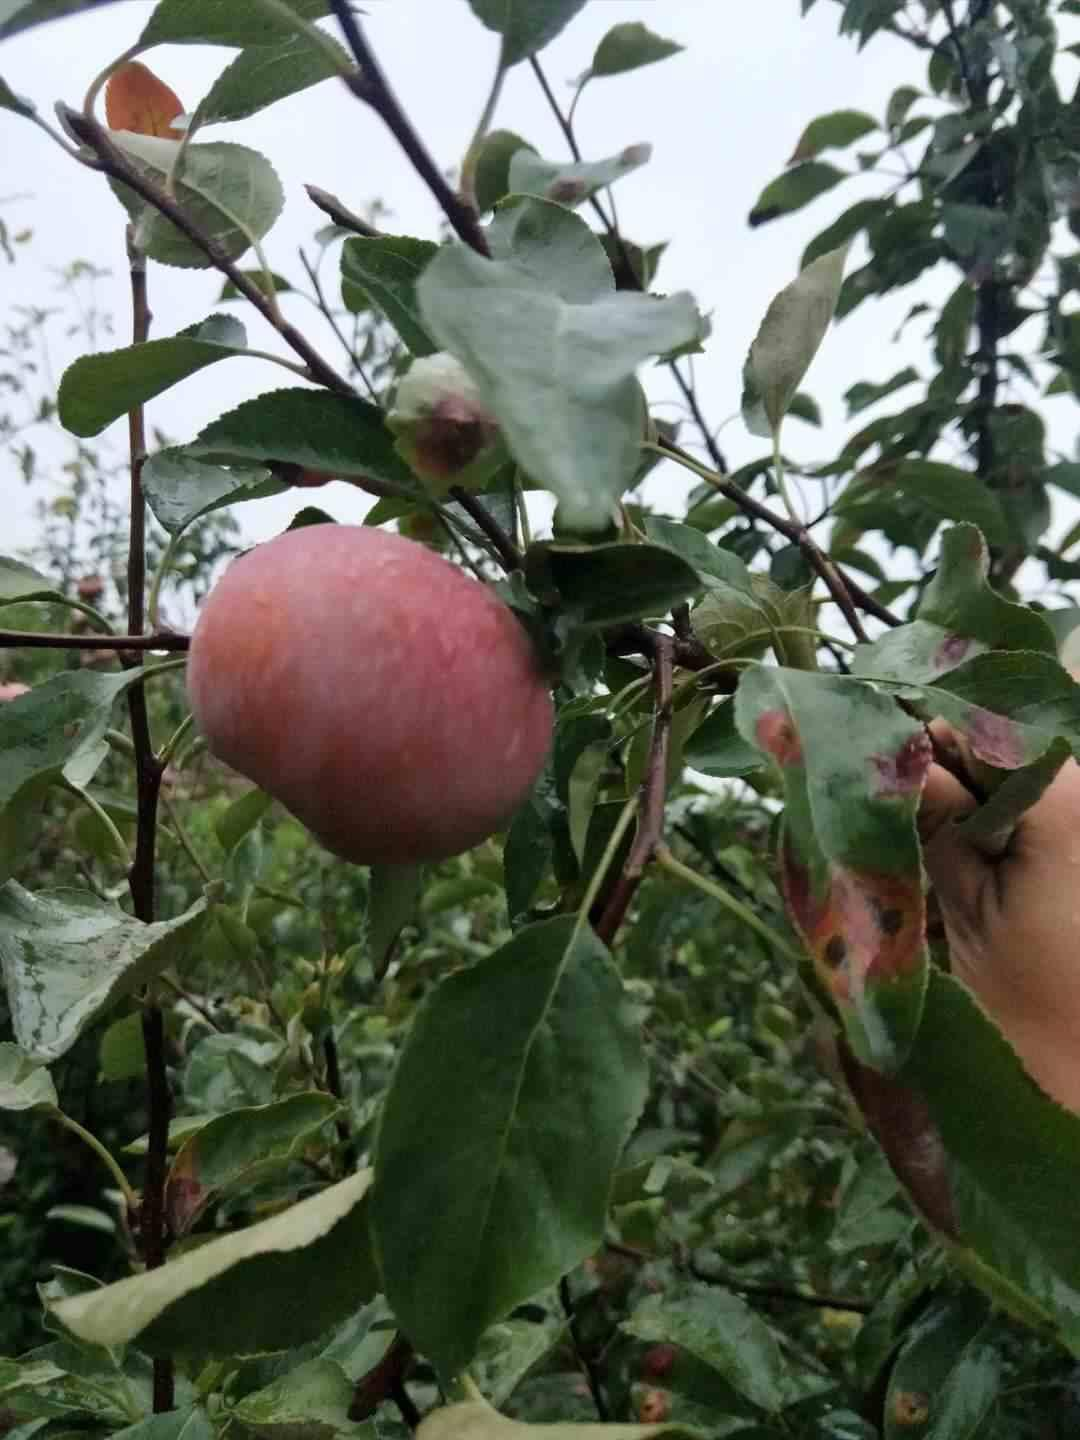apple: (182, 516, 549, 869)
